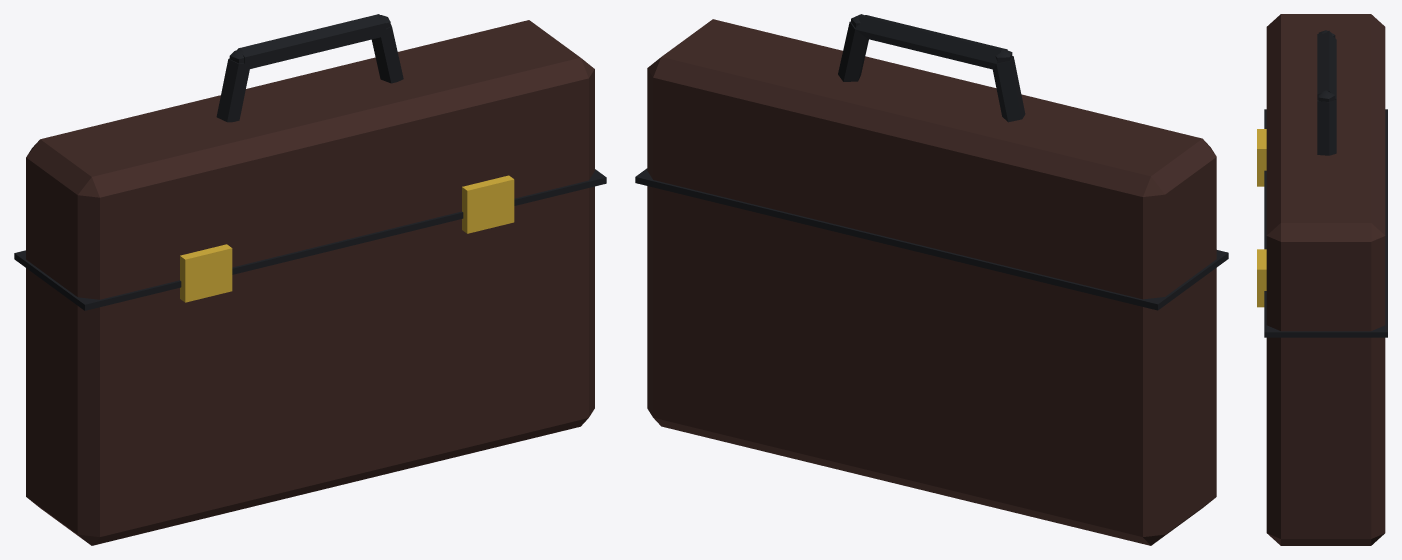
Rendered from briefcase.glb.
3 renders of one model, left to right at view 1: azimuth 30°, elevation 25°; view 2: azimuth 150°, elevation 25°; view 3: azimuth 270°, elevation 25°, orthographic. The views are drawn at different scales.
Parts seen in each view (by area): view 1: briefcase; view 2: briefcase; view 3: briefcase.
Part boxes in pixels (x1=…): briefcase: x1=14, y1=14, x2=606, y2=545; briefcase: x1=635, y1=14, x2=1228, y2=545; briefcase: x1=1257, y1=14, x2=1387, y2=545.
Size of the model in its own units: 0.444 by 0.354 by 0.11.
